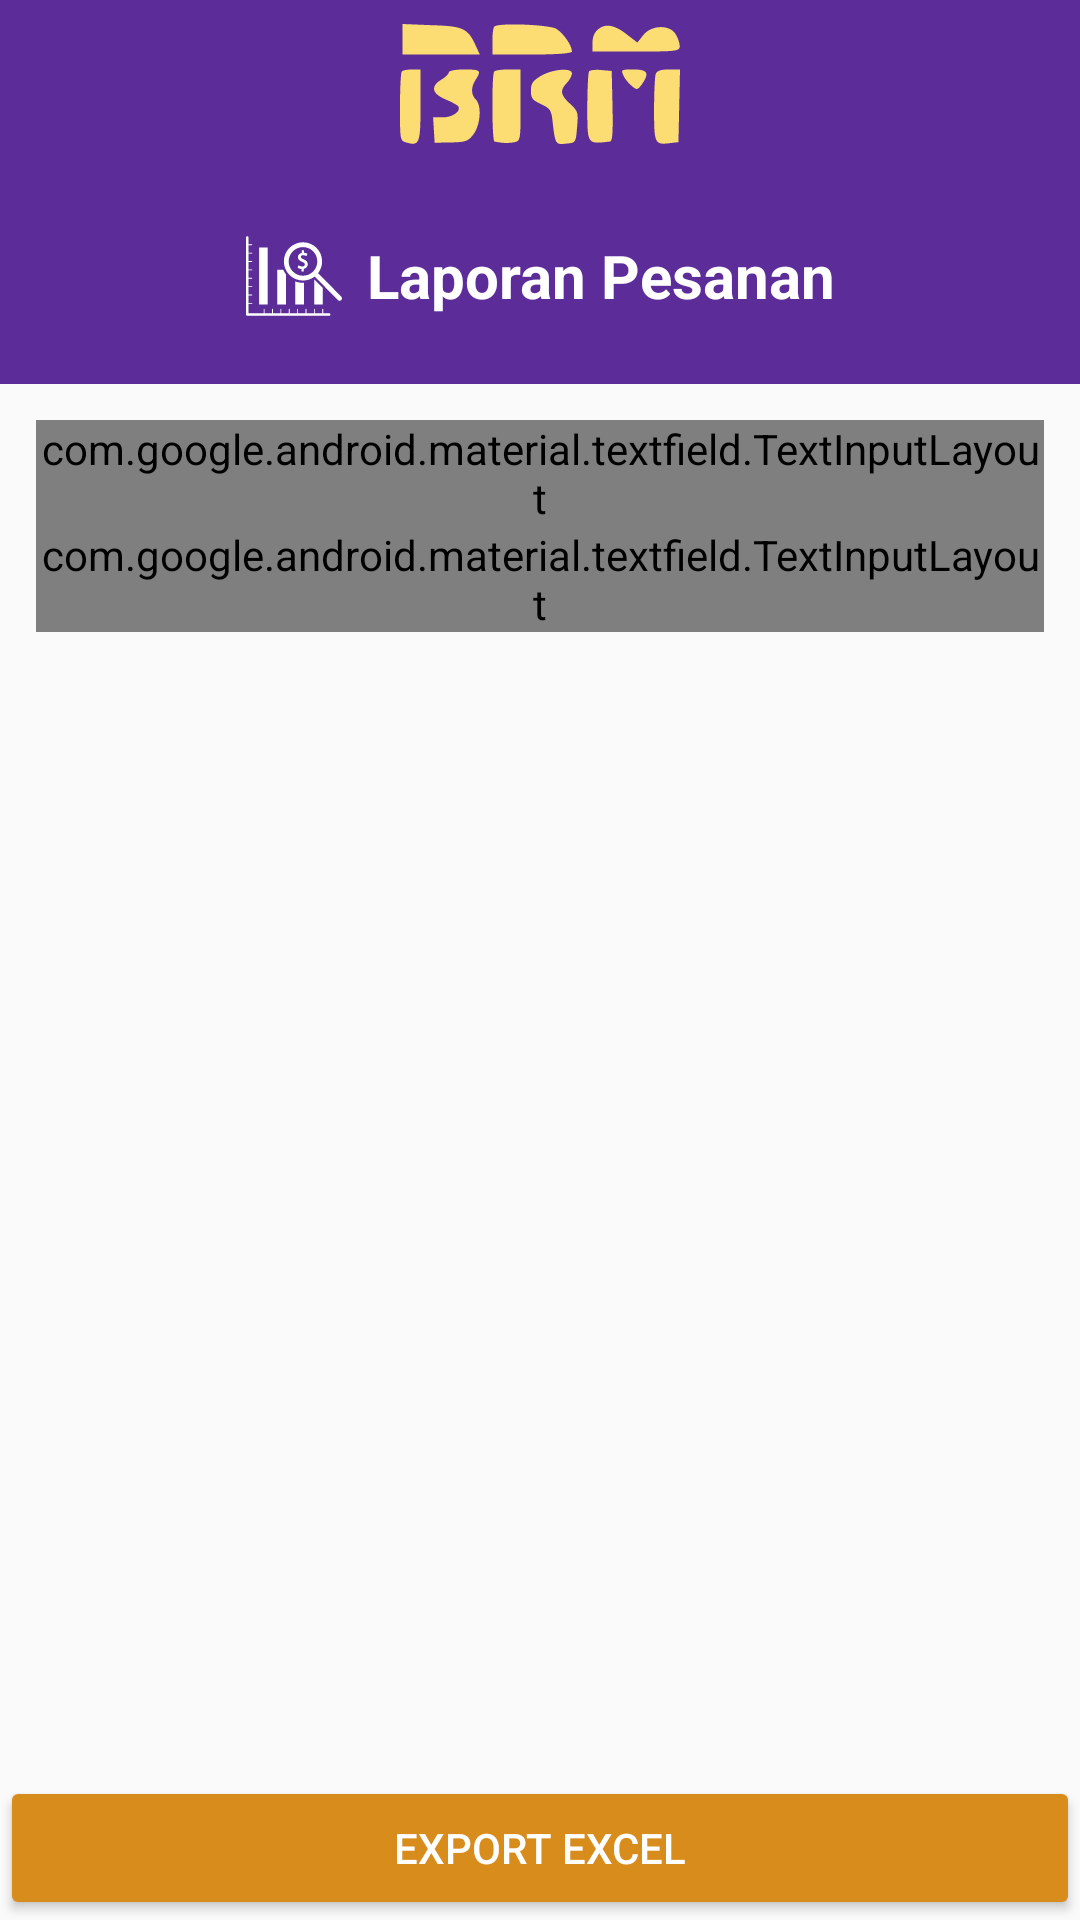

Where to tap for icons on this 1080w x 1920h app screen, as (x,y):
dollar analysis bars chart: (294,276)
